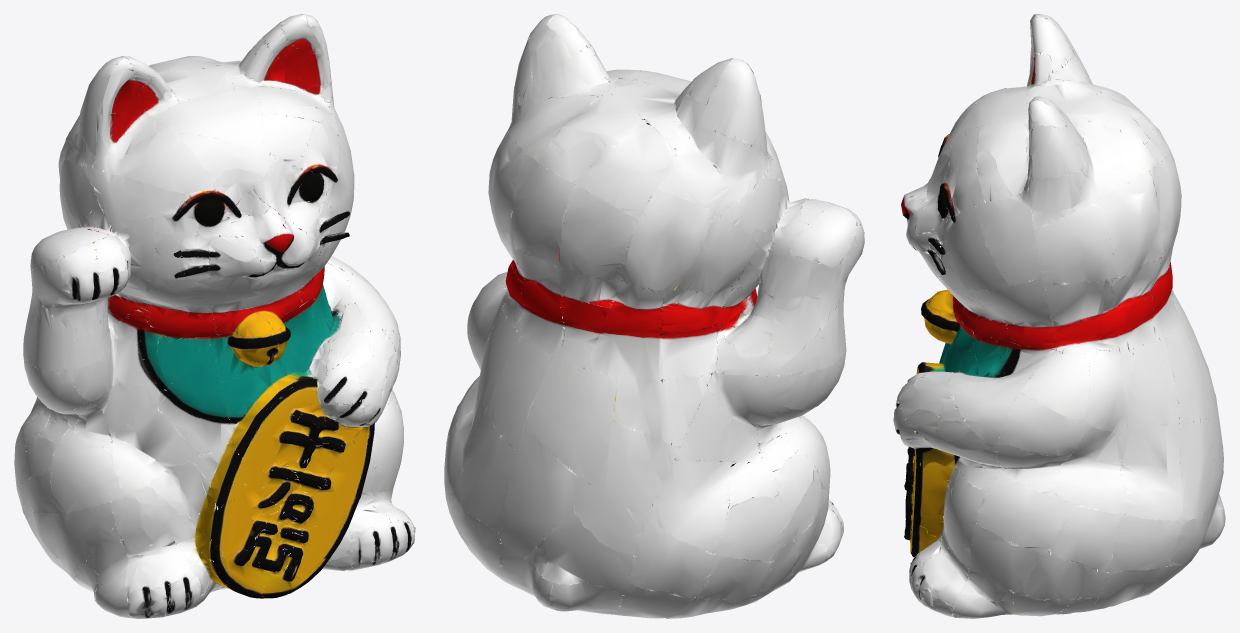
The model's file is maneki-neko-display.glb.
The picture shows the model from 3 angles, left to right: view 1: azimuth 30°, elevation 25°; view 2: azimuth 150°, elevation 25°; view 3: azimuth 270°, elevation 25°; orthographic projection. The views are drawn at different scales.
Parts seen in each view (by area): view 1: Maneki-neko display neutral; view 2: Maneki-neko display neutral; view 3: Maneki-neko display neutral.
Part boxes in pixels (x1,y1,x2,y2): Maneki-neko display neutral: (14,14,415,618); Maneki-neko display neutral: (444,14,864,618); Maneki-neko display neutral: (893,14,1225,618).
Bounding box in the file's own units: 1.42 × 1.9 × 1.16.
Materials: 1 (1 with a texture image).
